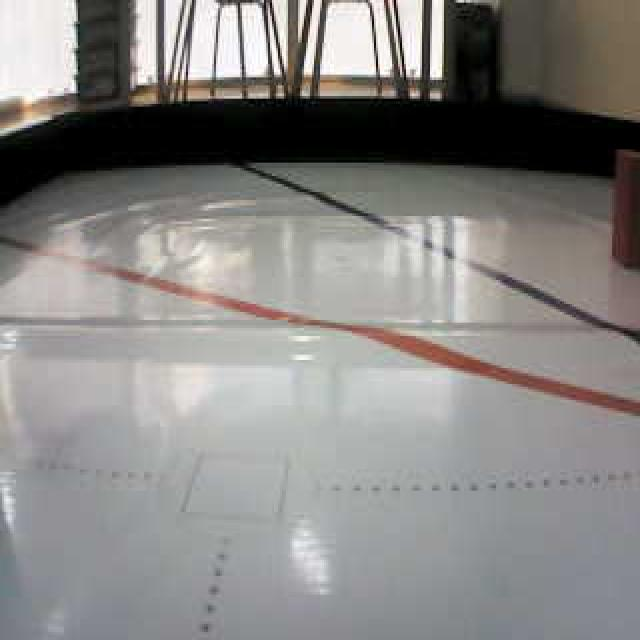azul: (243, 160, 461, 245)
naranja: (138, 258, 398, 391)
rojo: (602, 136, 640, 272)
